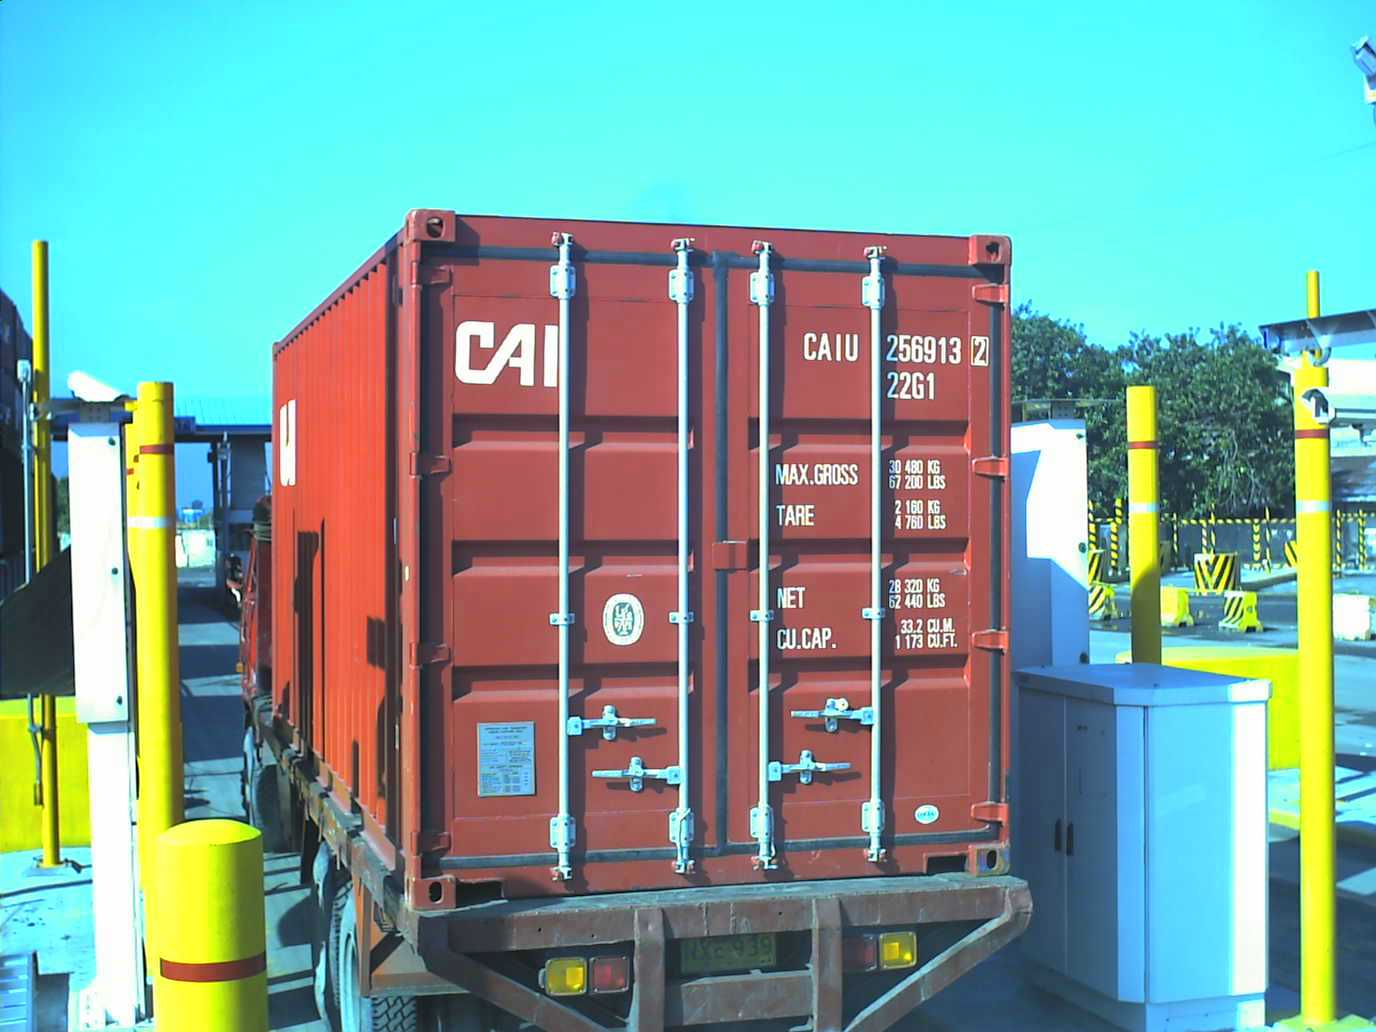container_door: (402, 204, 1015, 878)
